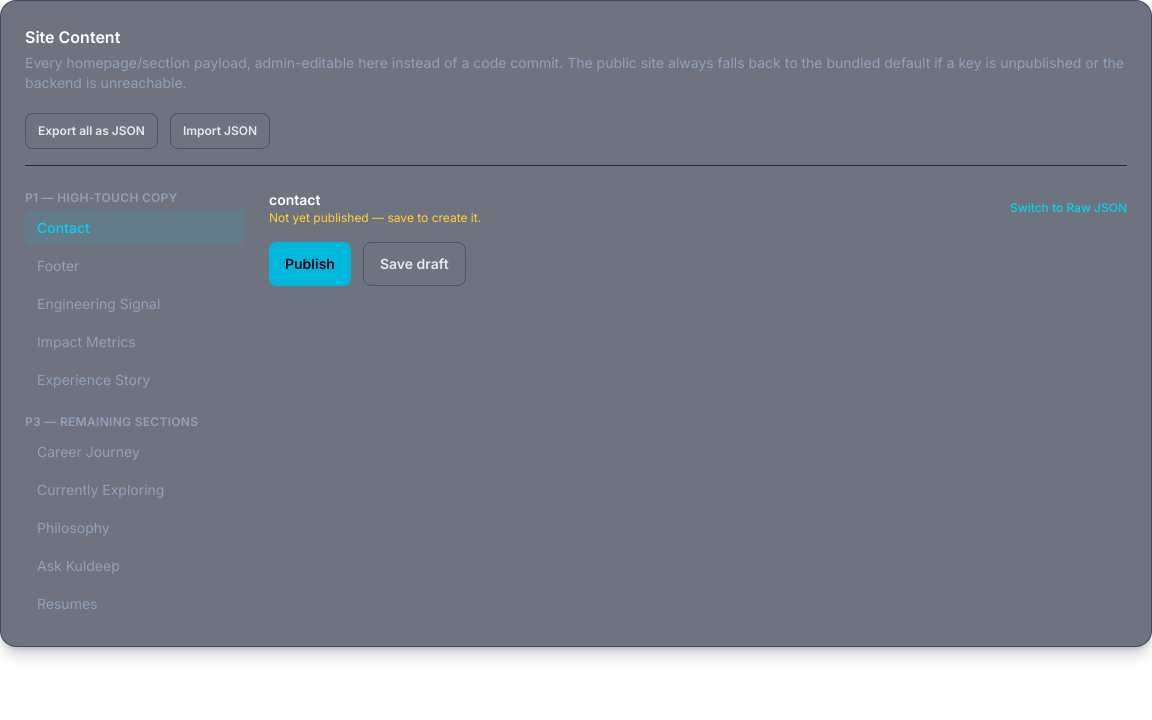
Scenario: SiteContentAdminPanel › a 404 (unpublished key) shows an empty draft instead of an error
Click the button "Switch to Raw JSON". click: {"x": 1068, "y": 208}
box: [1010,200,1127,216]
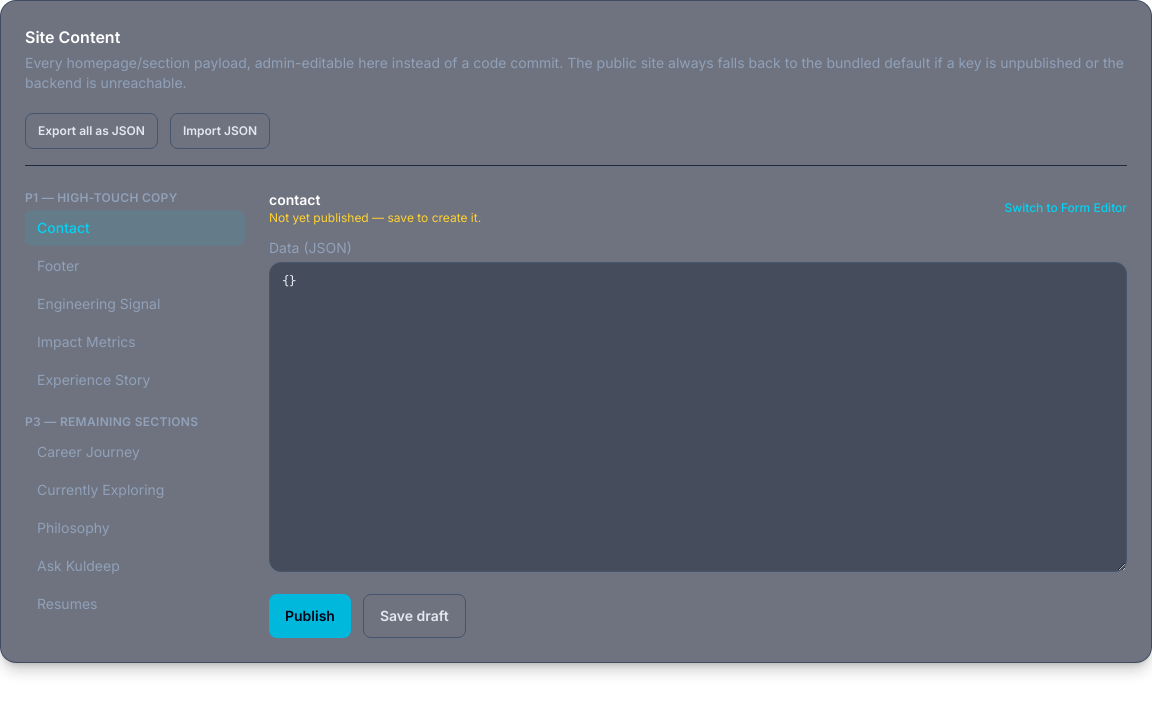
expect the text "Not yet published — save to create it." is shown: met, box [269,210,481,226]
expect the text box labelled "Data (JSON)" holds "{}": met, box [269,262,1127,572]
